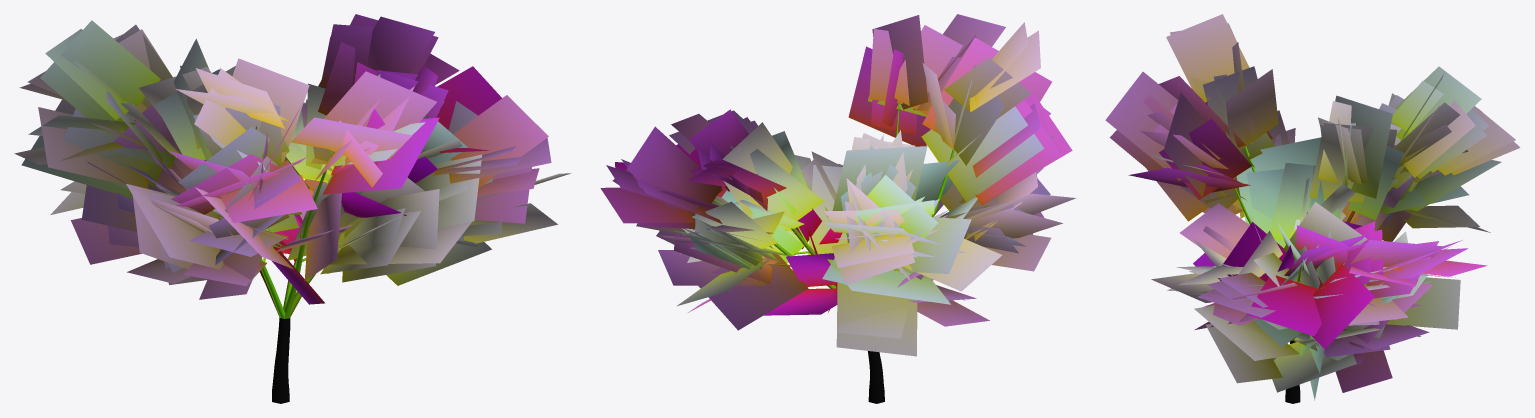
Rendered from tree_zelkova_c_lod1.glb.
3 renders of one model, left to right at view 1: azimuth 30°, elevation 25°; view 2: azimuth 150°, elevation 25°; view 3: azimuth 270°, elevation 25°, orthographic. The views are drawn at different scales.
Parts seen in each view (by area): view 1: tree_zelkova_c_lod1; view 2: tree_zelkova_c_lod1; view 3: tree_zelkova_c_lod1.
Part boxes in pixels (bbox=[...]): tree_zelkova_c_lod1: bbox=[14, 14, 570, 403]; tree_zelkova_c_lod1: bbox=[600, 14, 1076, 403]; tree_zelkova_c_lod1: bbox=[1105, 14, 1520, 403].
Bounding box in the file's own units: 18.99 × 15.55 × 17.52.
